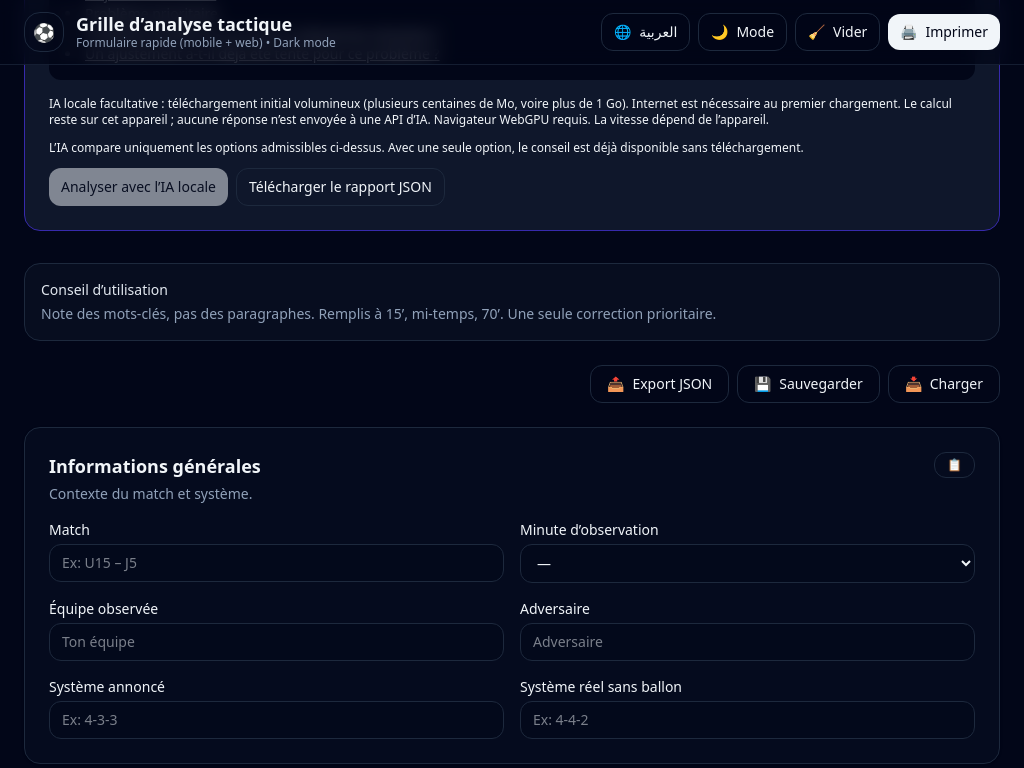
Scenario: App › signale l’absence de sauvegarde
(page scrolled)
Click the button "📥 Charger".
click(944, 384)  # box [888,365,1000,403]
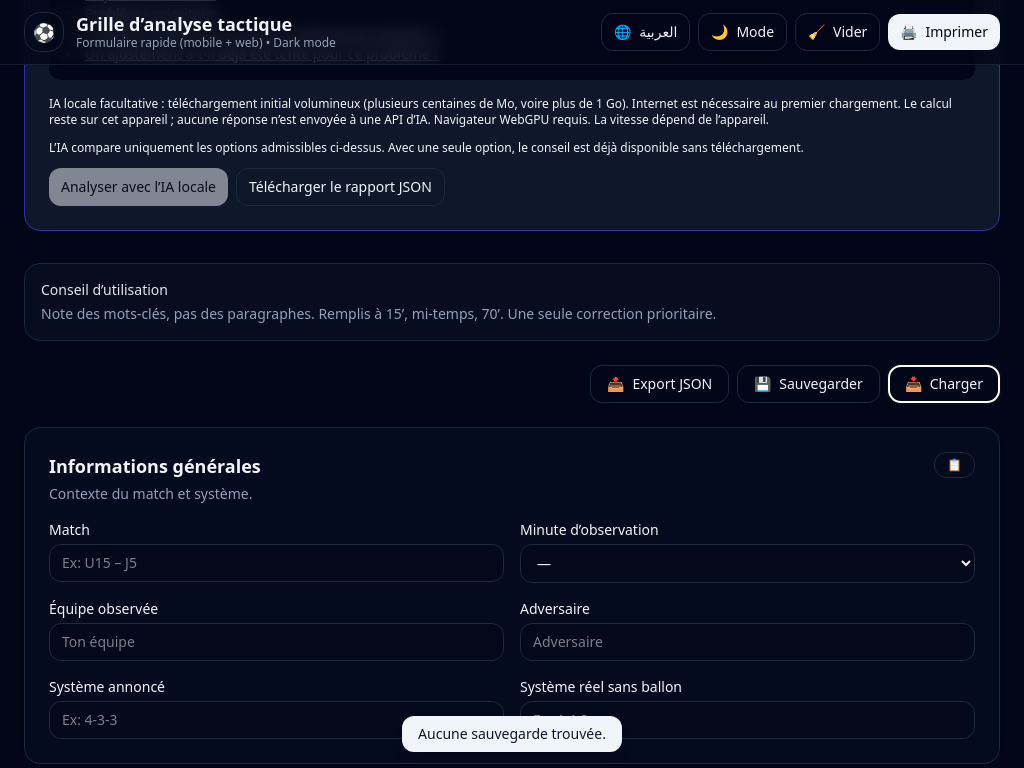
Expected: the message reads "Aucune sauvegarde trouvée.", [418,724,606,743]
